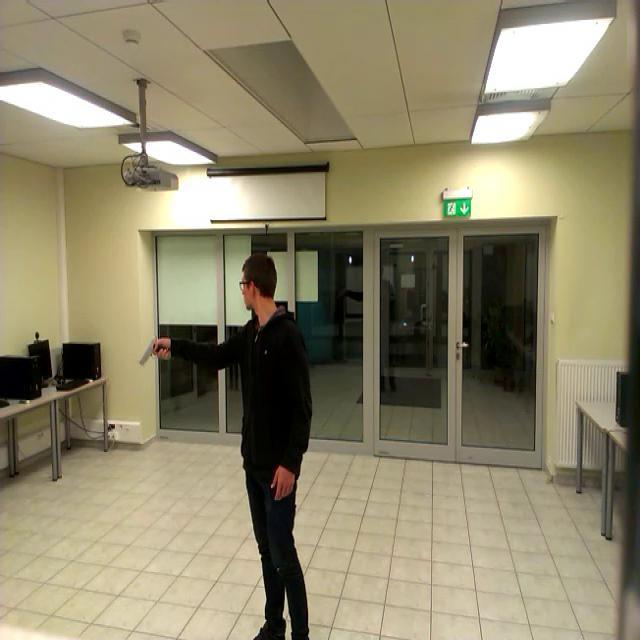Gun: (138, 336, 168, 366)
